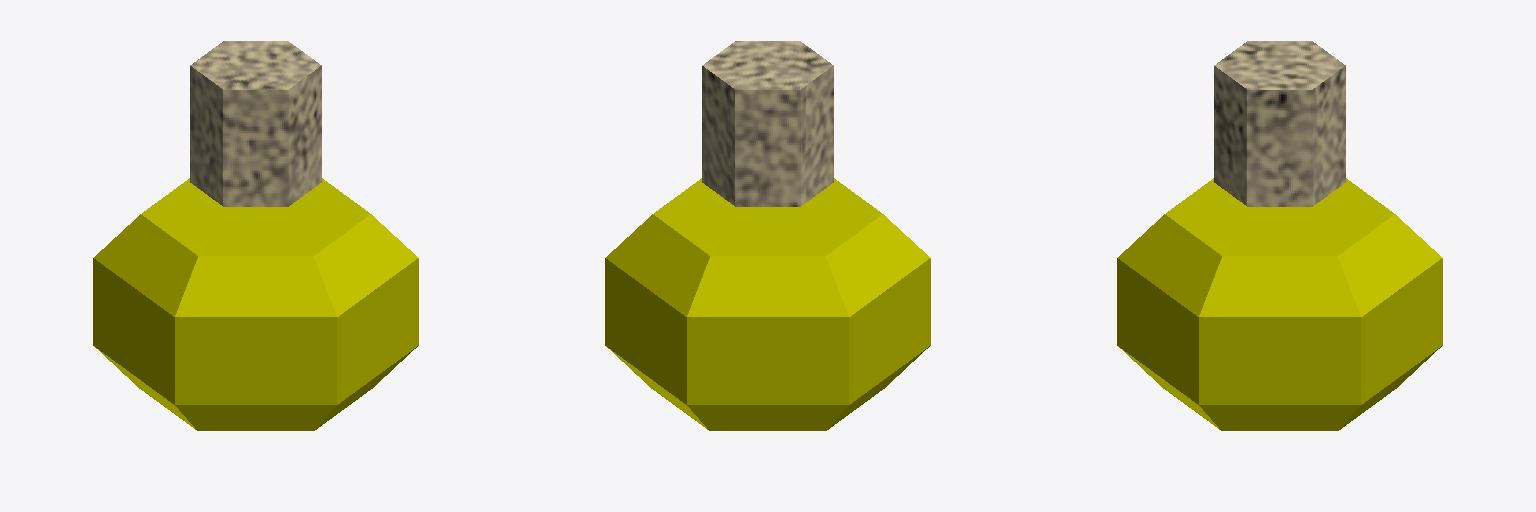
3 renders of one model, left to right at view 1: azimuth 30°, elevation 25°; view 2: azimuth 150°, elevation 25°; view 3: azimuth 270°, elevation 25°, orthographic.
Parts seen in each view (by area): view 1: HealthBomb_Tube.001; view 2: HealthBomb_Tube.001; view 3: HealthBomb_Tube.001.
Boxes of the visible parts, box(x1,y1,x2,y2) form: HealthBomb_Tube.001: box(93, 41, 418, 430); HealthBomb_Tube.001: box(605, 41, 930, 430); HealthBomb_Tube.001: box(1117, 41, 1442, 430).
Bounding box in the file's own units: 0.1091 × 0.1368 × 0.126.
Materials: 3 (1 with a texture image).